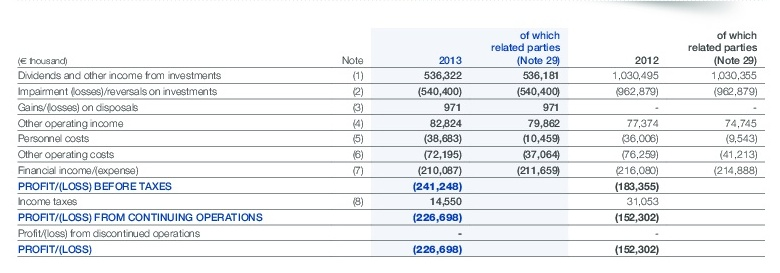table: (0, 0, 780, 273)
